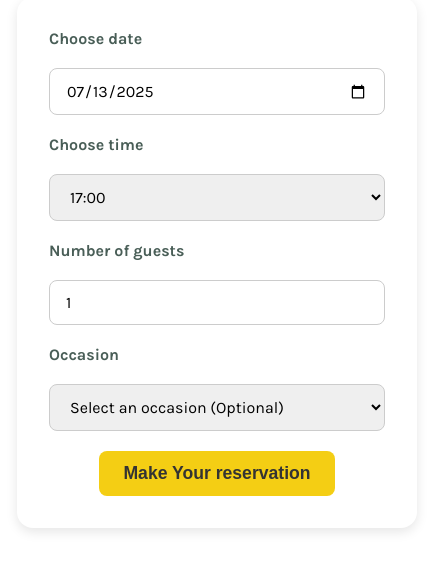
Test: BookingForm Component Tests › BookingForm JavaScript Validation Functions › time select shows error if no valid option is selected
Select "Select a time" in the dropdown labelled "Choose time": x=217, y=198 [49,174,385,221]
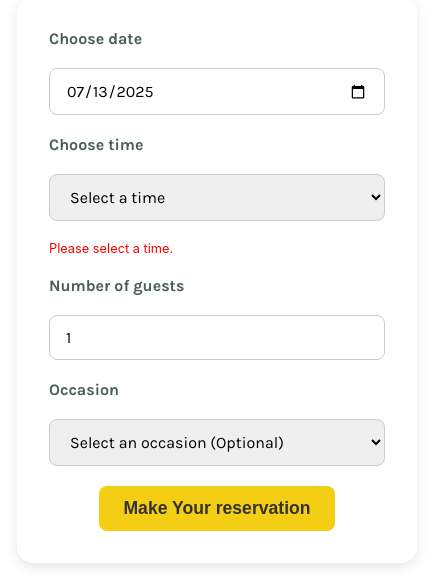
Result: the text "Please select a time." is shown at [49,241,173,256]
